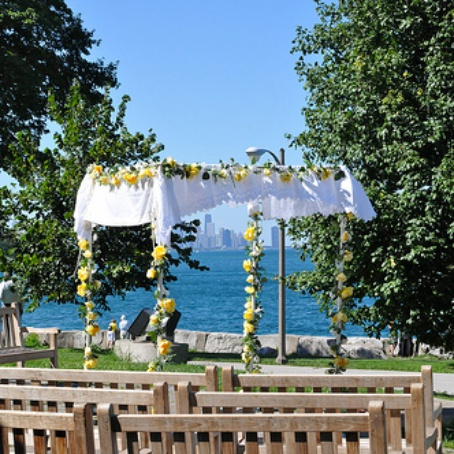sea: (161, 243, 341, 339)
sky: (95, 1, 313, 149)
tent: (78, 145, 352, 379)
tree: (1, 4, 181, 301), (325, 1, 454, 319)
